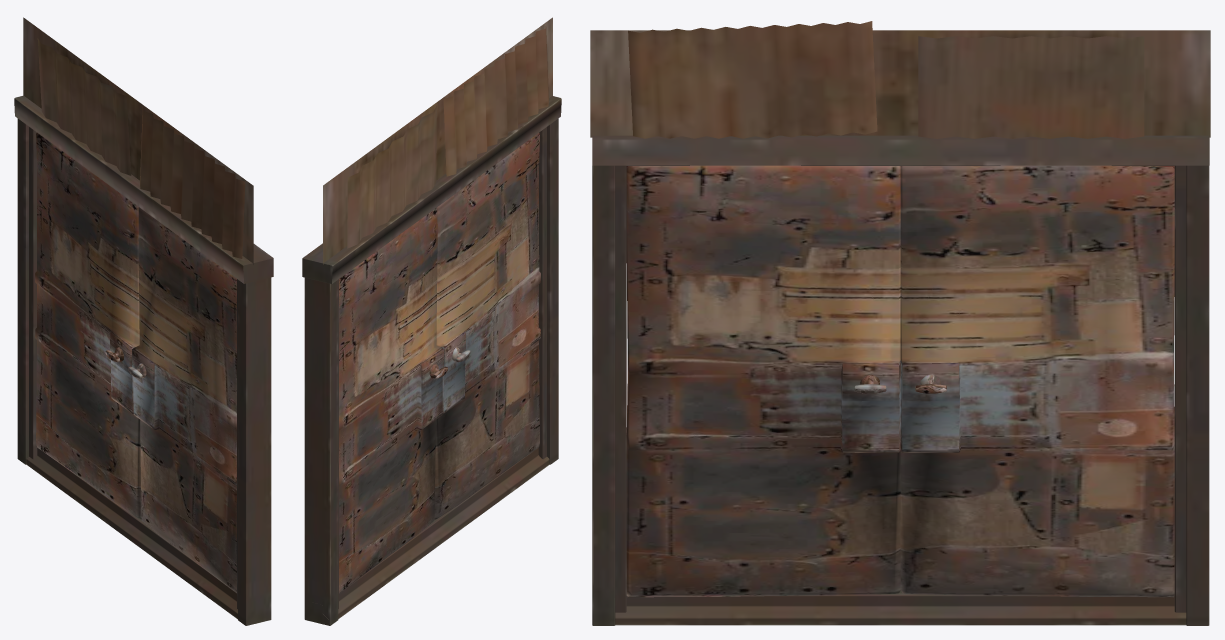
Rendered from door_test_static.glb.
3 views of the same model, side by side, from view 1: azimuth 30°, elevation 25°; view 2: azimuth 150°, elevation 25°; view 3: azimuth 270°, elevation 25° (orthographic). The views are drawn at different scales.
Visible parts, largest first — view 1: doubledoor.frame.metal_LOD0, doubledoor.metal_R, doubledoor.metal_L; view 2: doubledoor.frame.metal_LOD0, doubledoor.metal_L, doubledoor.metal_R; view 3: doubledoor.frame.metal_LOD0, doubledoor.metal_R, doubledoor.metal_L.
Boxes of the visible parts, x1,y1,x2,y2 form: doubledoor.frame.metal_LOD0: (14, 17, 273, 625); doubledoor.metal_R: (35, 132, 141, 519); doubledoor.metal_L: (132, 207, 236, 593); doubledoor.frame.metal_LOD0: (302, 17, 561, 625); doubledoor.metal_L: (434, 133, 540, 519); doubledoor.metal_R: (339, 207, 443, 593); doubledoor.frame.metal_LOD0: (590, 21, 1210, 625); doubledoor.metal_R: (900, 165, 1174, 597); doubledoor.metal_L: (626, 165, 900, 597).
Size of the model in its own units: 0.3154 by 2.91 by 2.72.
Materials: 2 (2 with a texture image).
